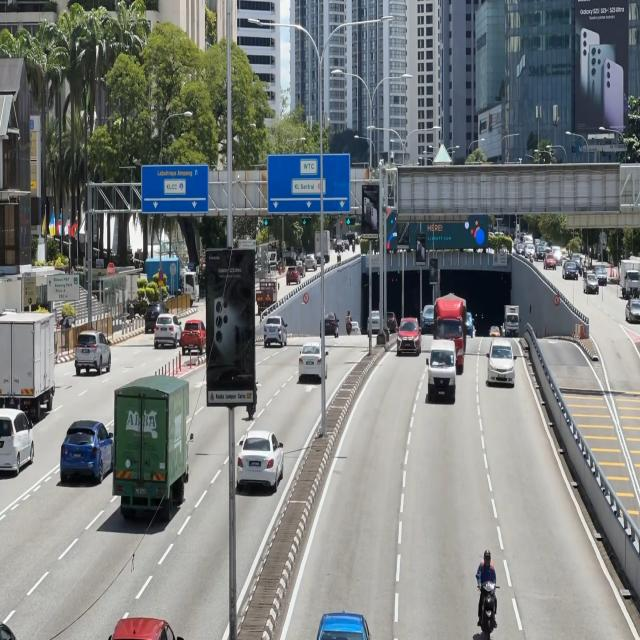Car: (111, 378, 196, 517), (0, 313, 58, 413), (59, 417, 112, 486), (238, 424, 286, 498), (434, 296, 470, 372), (0, 410, 37, 477), (73, 322, 112, 380), (424, 344, 460, 402), (487, 335, 518, 392), (395, 306, 423, 361), (298, 342, 330, 390), (153, 312, 181, 351), (179, 318, 205, 358), (262, 310, 288, 350)
